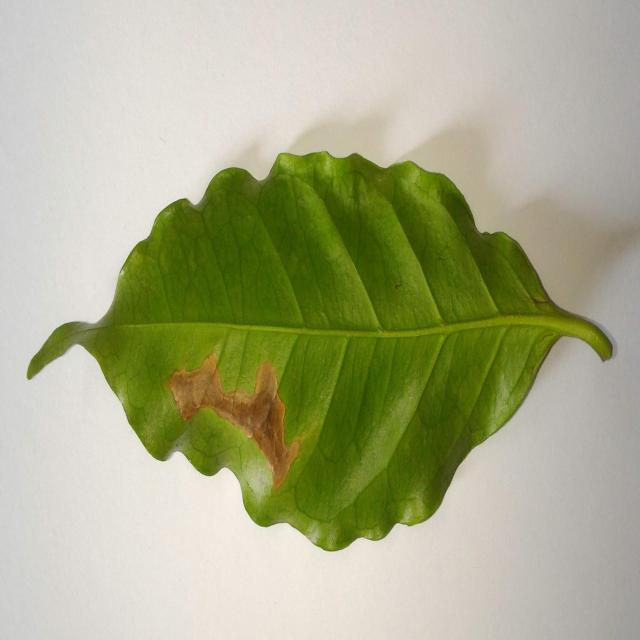Plaga-Minador: (25, 151, 614, 554)
